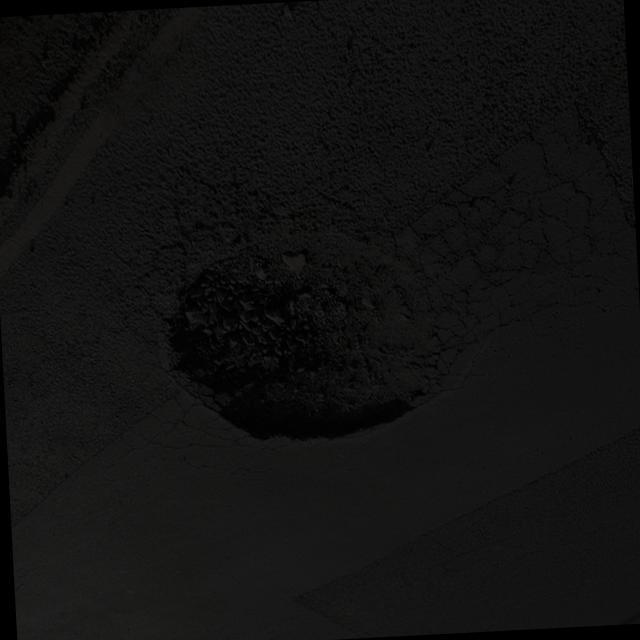pothole: (132, 193, 501, 491)
